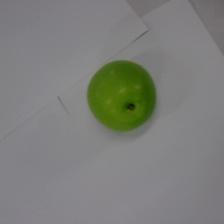green: (87, 60, 157, 131)
